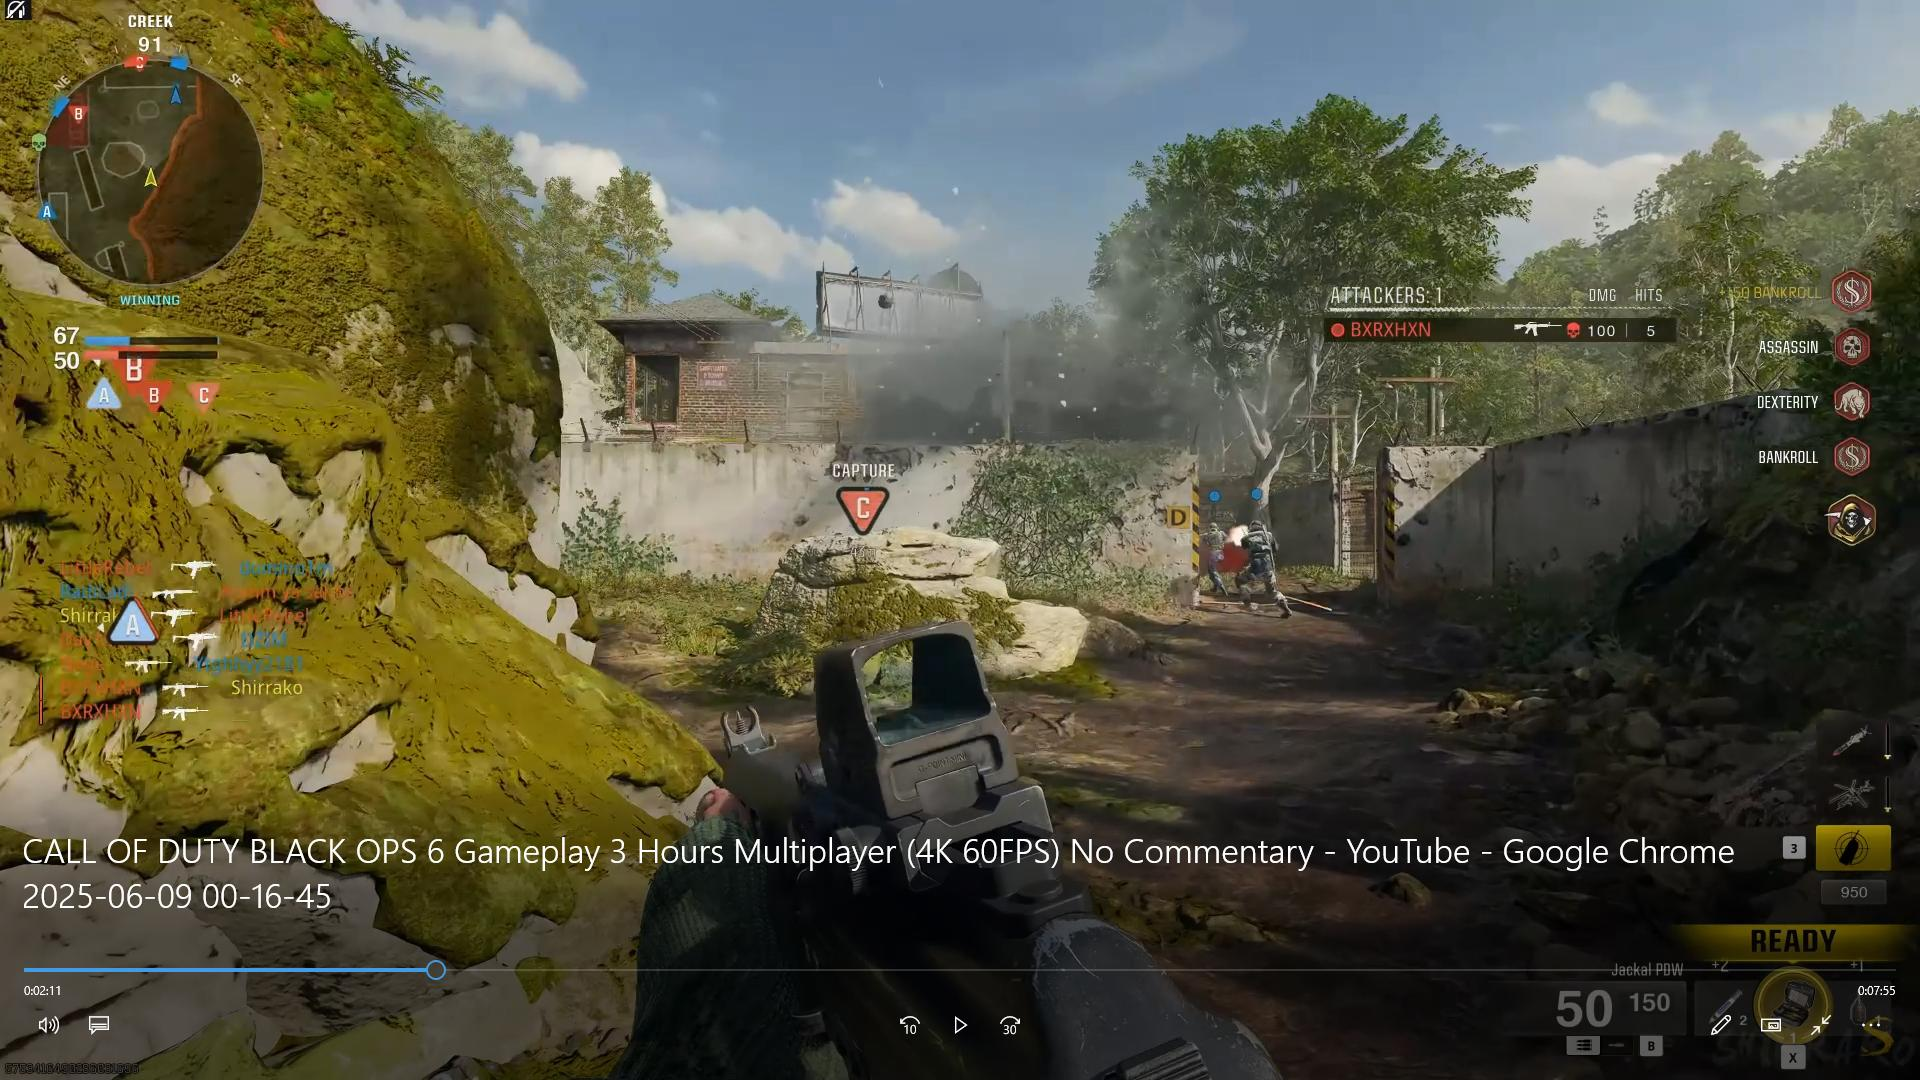Enemy: (1240, 521, 1288, 611), (1193, 513, 1230, 595)
